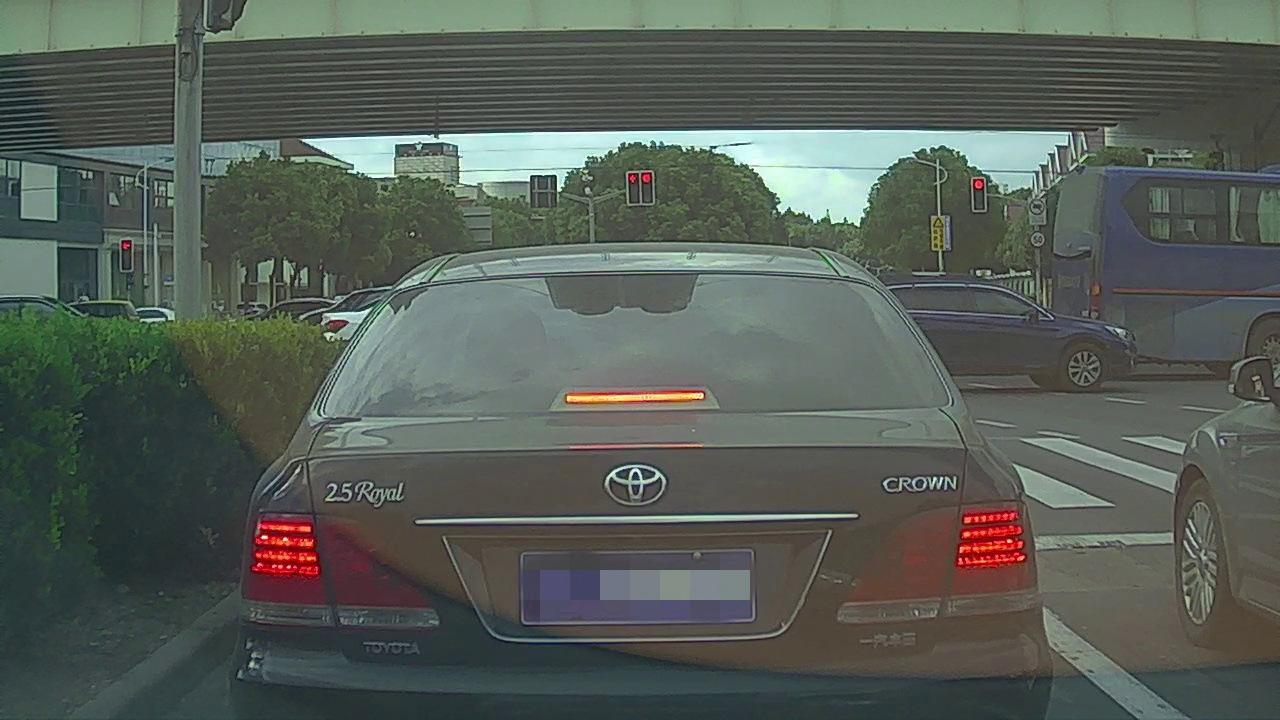traffic_light: (119, 240, 133, 272), (972, 179, 986, 210), (640, 172, 653, 204), (626, 174, 639, 204)
